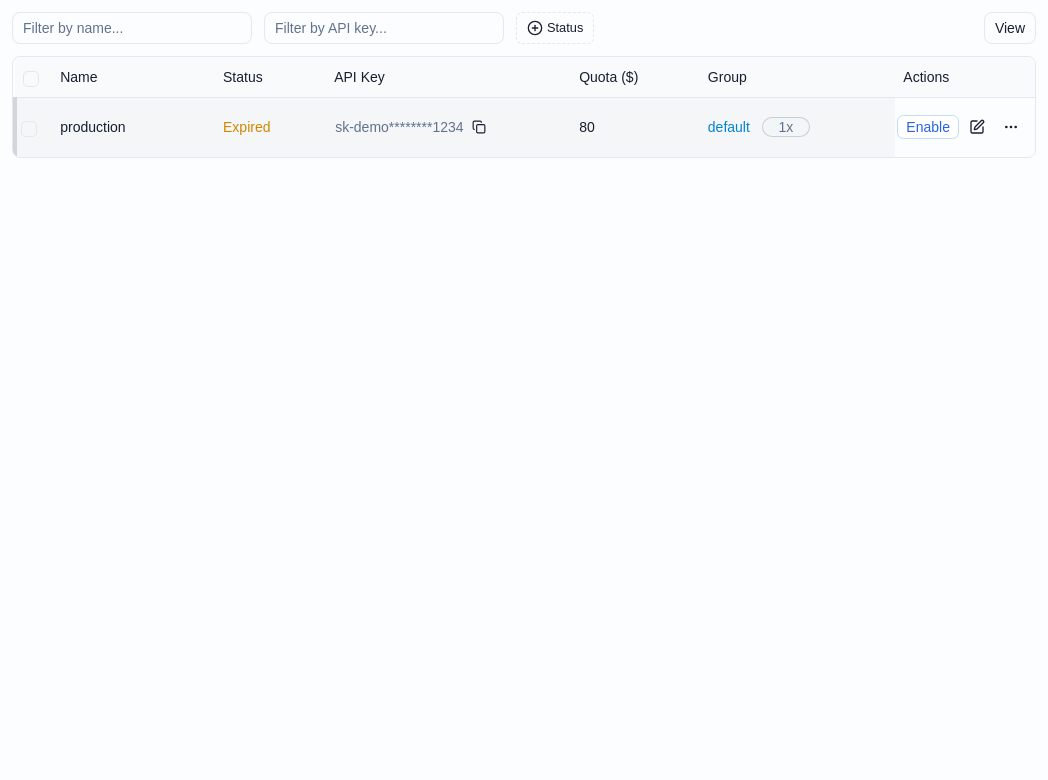
Test: keeps expired status when the server refuses reactivation
The image size is (1048, 780).
Check: the text "production" is shown, box [60,119,126,135]
Click the button "Enable".
click(928, 127)  # box [897,115,959,139]
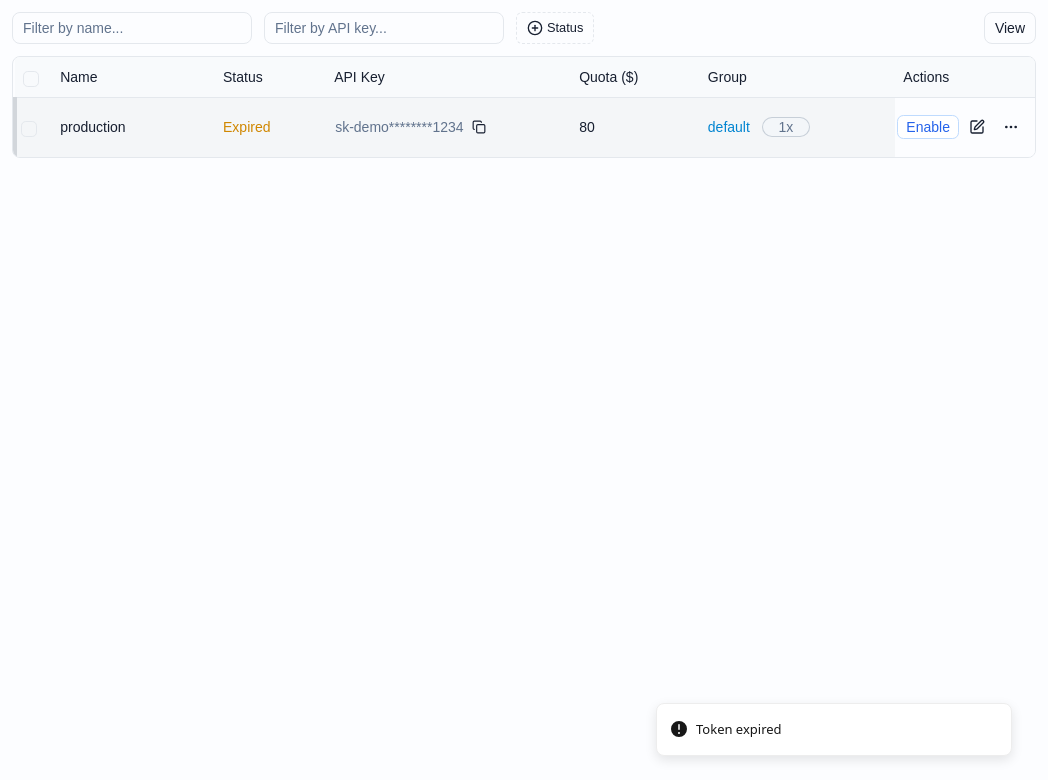
Check: the text "Expired" is shown, box [223,117,270,138]
Check: the text "Token expired" is shown, box [696,720,782,739]
